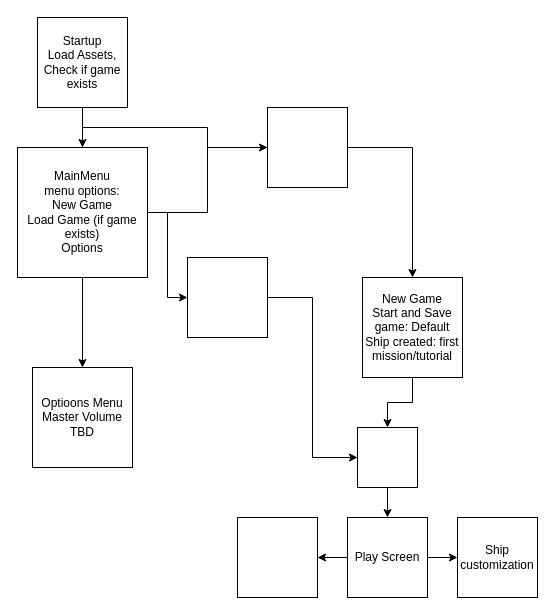
The diagram is 555 pixels wide and 615 high, and some of its shapes have lost their labels. Here are the shapes that lost their labels. From the top down, the centre of each, then its label:
At pixel 307 147: "Alert Dialog: This will overrite existing games Ok/Cancel".
At pixel 227 297: "Load Game Query existing data".
At pixel 387 457: "Game is live".
